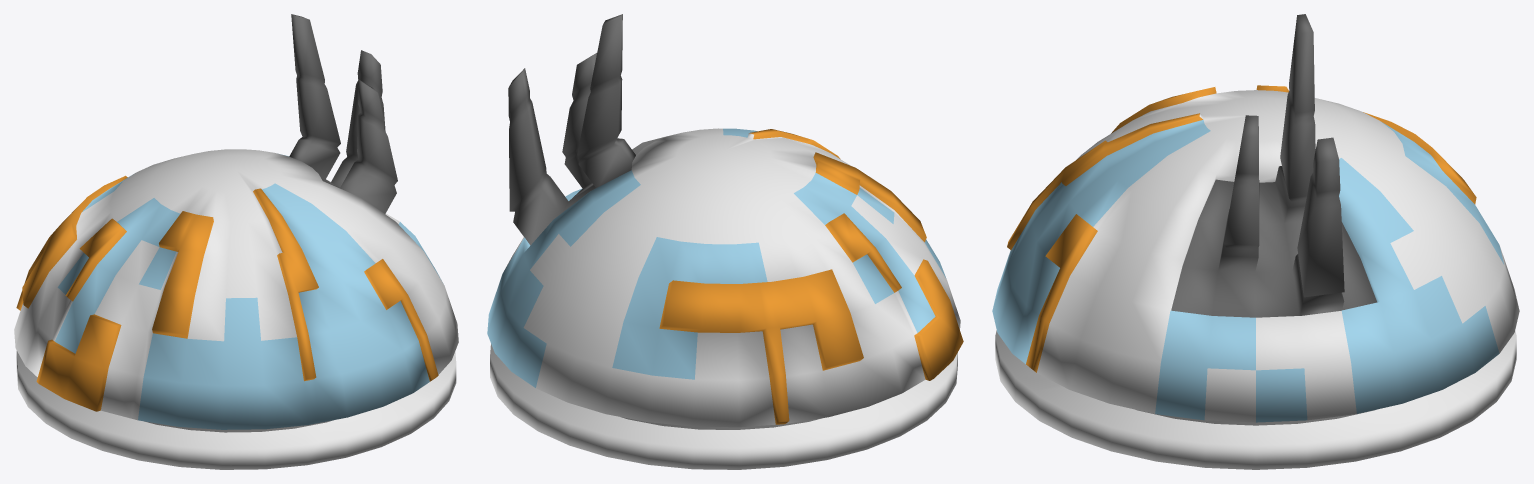
File: head1.glb
3 renders of one model, left to right at view 1: azimuth 30°, elevation 25°; view 2: azimuth 150°, elevation 25°; view 3: azimuth 270°, elevation 25°, orthographic. The views are drawn at different scales.
Parts seen in each view (by area): view 1: body4; view 2: body4; view 3: body4.
Boxes of the visible parts, left/top/right/bottom form: body4: left=14, top=14, right=458, bottom=469; body4: left=487, top=14, right=963, bottom=469; body4: left=992, top=14, right=1519, bottom=469.
Bounding box in the file's own units: 1.98 × 1.62 × 1.96.
